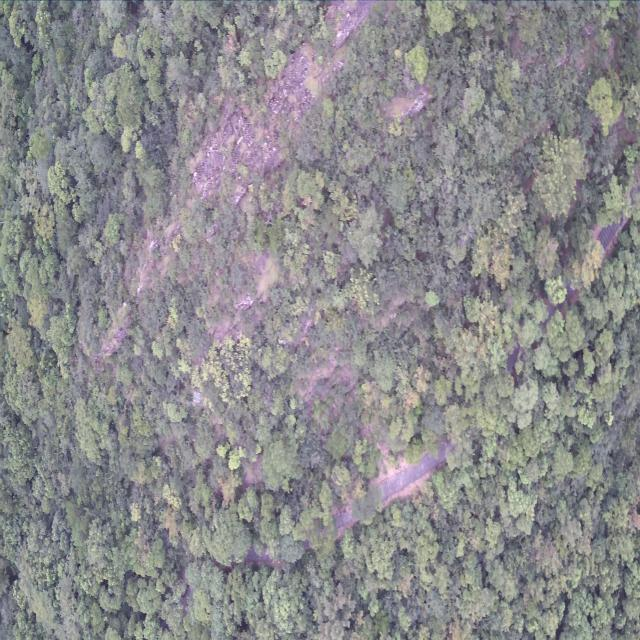UAV: (187, 386, 205, 410)
